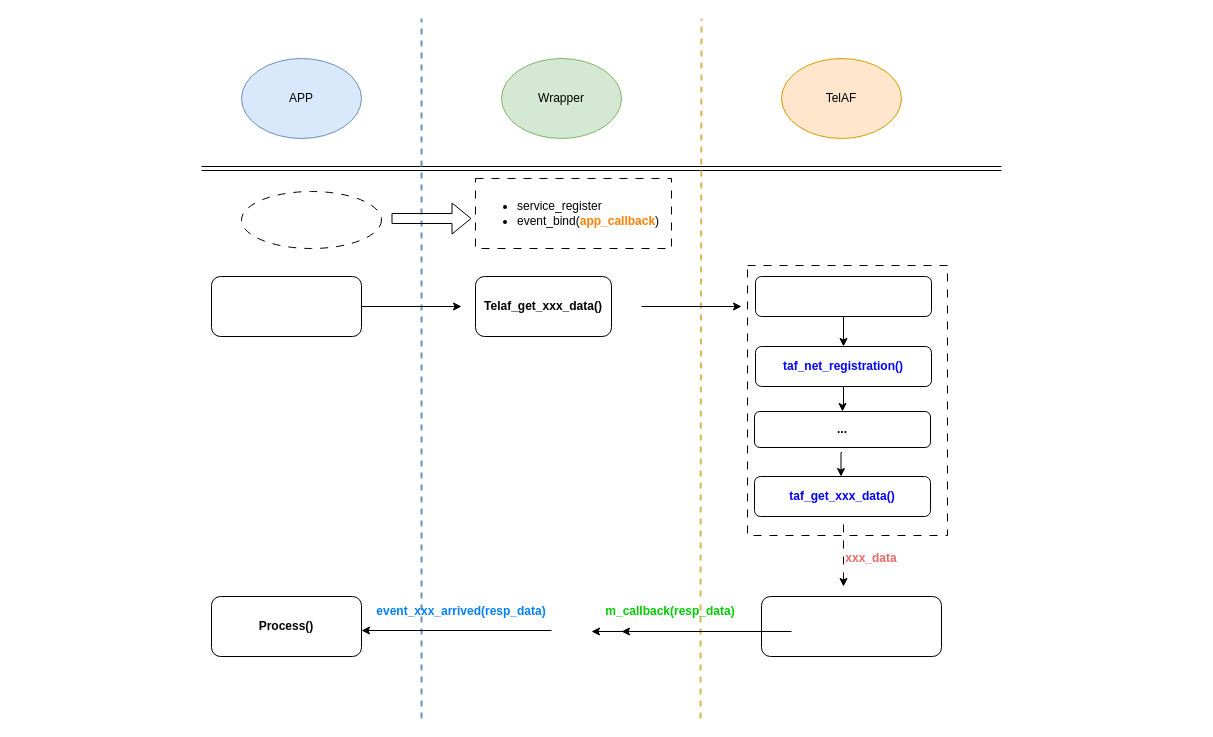
Image size: 1213x737. Some labels were removed from this diagram. The centre of each missing label's shape, as x and y in pixels:
"app_callback(event, resp_data)" goes at (311,219).
"make_response_data()" goes at (851,626).
"Nadif_get_xxx_data()" goes at (286,306).
"taf_service_connect()" goes at (843,296).
